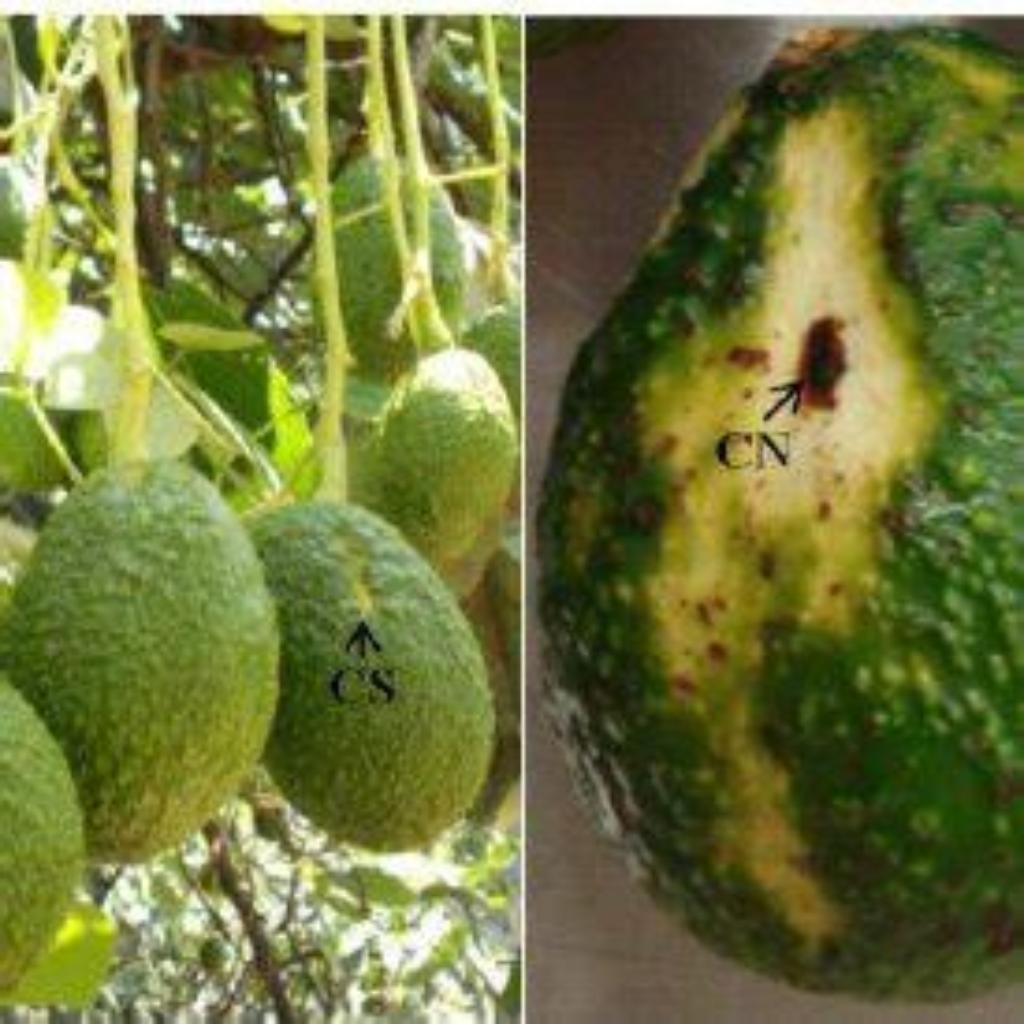sunblotch: (525, 26, 1024, 983), (268, 496, 454, 676)
